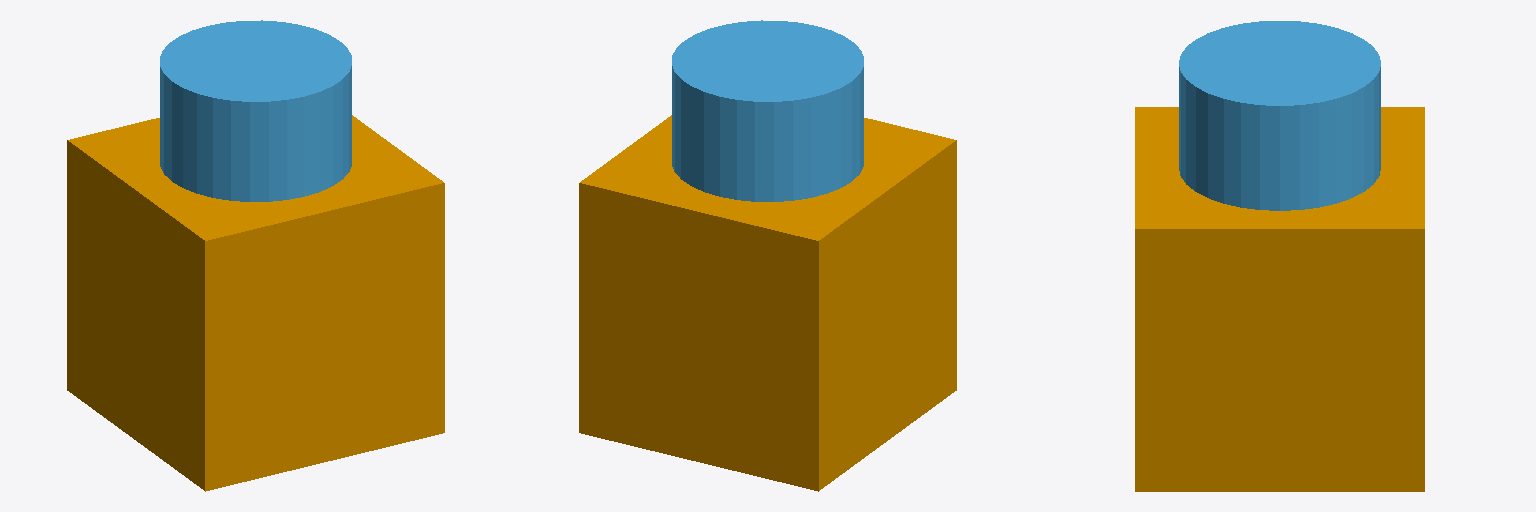
robot.urdf — mrm:
<?xml version="1.0" ?>
<!-- =================================================================================== -->
<!-- |    This document was autogenerated by xacro from test.xacro                     | -->
<!-- |    EDITING THIS FILE BY HAND IS NOT RECOMMENDED                                 | -->
<!-- =================================================================================== -->
<robot name="mrm" xmlns:xacro="http://www.ros.org/wiki/xacro">
  <link name="base_link">
    <visual>
      <origin rpy="0 0 0" xyz="0 0 0"/>
      <geometry>
        <box size="1 1 1"/>
      </geometry>
    </visual>
  </link>
  <joint name="base_link__link_01" type="revolute">
    <axis xyz="0 0 1"/>
    <limit effort="1000.0" lower="-3.14" upper="3.14" velocity="0.5"/>
    <origin rpy="0 0 0" xyz="0 0 0.5"/>
    <parent link="base_link"/>
    <child link="link1"/>
  </joint>
  <link name="link1">
    <visual>
      <origin rpy="0 0 0" xyz="0 0 0.2"/>
      <geometry>
        <cylinder length="0.4" radius="0.35"/>
      </geometry>
    </visual>
  </link>
</robot>

--- Facts derived from the render (not from the file) ---
Views: 3 orthographic renders of the robot side by side, from view 1: azimuth 30°, elevation 25°; view 2: azimuth 150°, elevation 25°; view 3: azimuth 270°, elevation 25°.
Model mrm with 2 links and 1 joints (1 revolute), rooted at base_link, posed every joint at zero.
Links seen in each view (by area): view 1: base_link, link1; view 2: base_link, link1; view 3: base_link, link1.
Link boxes in pixels (x1=…): base_link: x1=67, y1=115, x2=444, y2=491; link1: x1=160, y1=20, x2=351, y2=201; base_link: x1=579, y1=115, x2=956, y2=491; link1: x1=672, y1=20, x2=863, y2=201; base_link: x1=1135, y1=107, x2=1424, y2=491; link1: x1=1179, y1=21, x2=1380, y2=210.
Bounding box of the posed robot: 1 × 1 × 1.4 m (x, y, z).
Geometry: primitives only (box / cylinder / sphere), no mesh files.